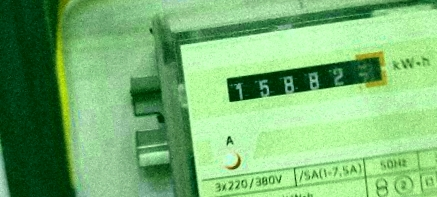1: (233, 80, 244, 99)
2: (331, 65, 345, 86)
5: (254, 77, 271, 97)
7: (355, 68, 369, 82)
8: (281, 72, 296, 94), (305, 68, 320, 90)
screen: (219, 48, 392, 110)
